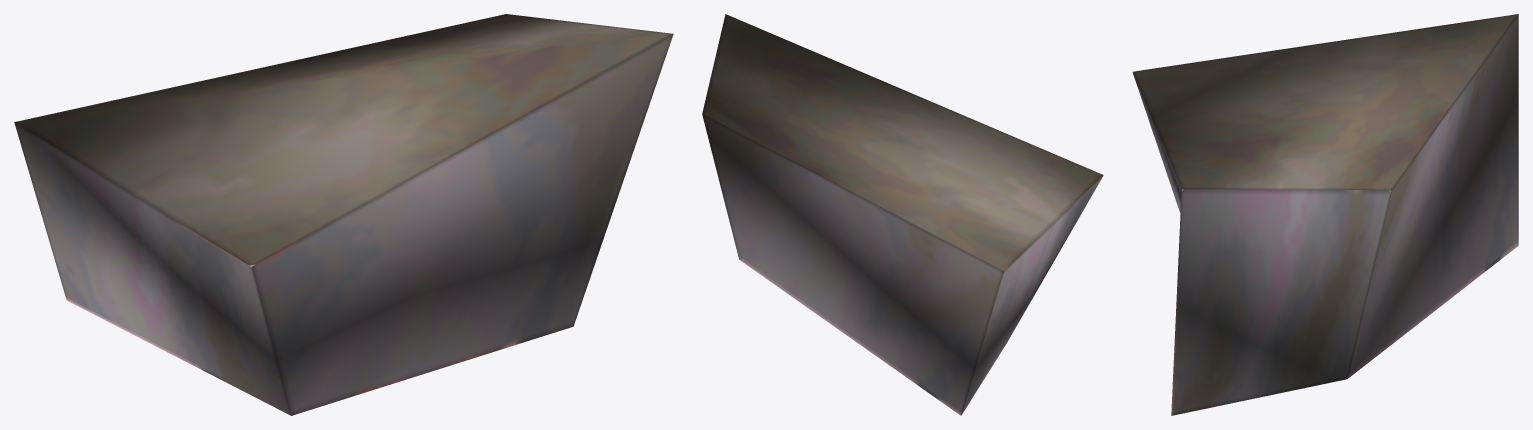
The picture shows the model from 3 angles, left to right: view 1: azimuth 30°, elevation 25°; view 2: azimuth 150°, elevation 25°; view 3: azimuth 270°, elevation 25°; orthographic projection. The views are drawn at different scales.
Parts seen in each view (by area): view 1: T1L3M004_8; view 2: T1L3M004_8; view 3: T1L3M004_8.
Boxes of the visible parts, x1,y1,x2,y2 form: T1L3M004_8: (14, 14, 673, 415); T1L3M004_8: (702, 14, 1103, 415); T1L3M004_8: (1132, 14, 1518, 415).
Bounding box in the file's own units: 0.2334 × 0.1357 × 0.1455.
Materials: 1 (1 with a texture image).
